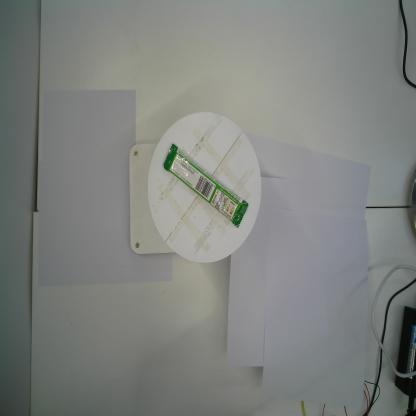Chocolate: (163, 143, 249, 229)
